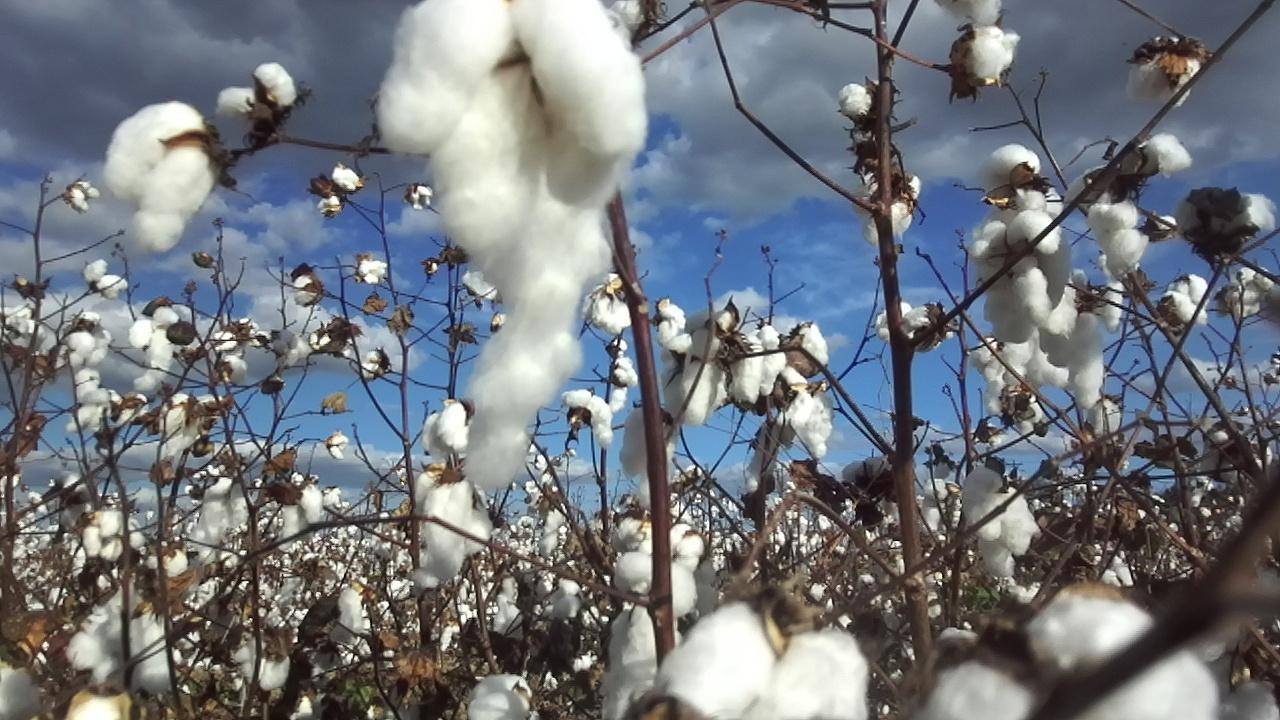cotton_ready: (383, 0, 649, 493), (924, 590, 1219, 720), (654, 604, 869, 720), (600, 517, 702, 720), (100, 101, 214, 252), (982, 144, 1070, 301), (1089, 137, 1192, 271), (67, 593, 177, 697), (973, 214, 1060, 345), (1040, 280, 1125, 406), (415, 465, 492, 584), (960, 469, 1041, 575), (665, 314, 737, 429), (1124, 35, 1205, 106), (777, 371, 832, 460), (862, 170, 922, 250), (1197, 194, 1279, 249), (220, 64, 299, 119), (972, 329, 1029, 404), (311, 590, 365, 668), (732, 324, 787, 399), (622, 411, 676, 479), (465, 674, 532, 720), (969, 26, 1018, 87), (0, 654, 42, 720), (424, 400, 472, 457), (1218, 677, 1280, 720), (782, 322, 830, 375), (1229, 265, 1277, 317), (1164, 275, 1212, 324), (592, 274, 630, 332), (837, 81, 879, 124), (941, 0, 1004, 27)
